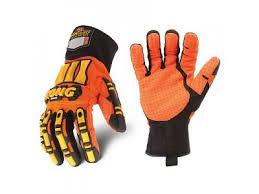gloves: (39, 24, 127, 167), (129, 29, 220, 160)
